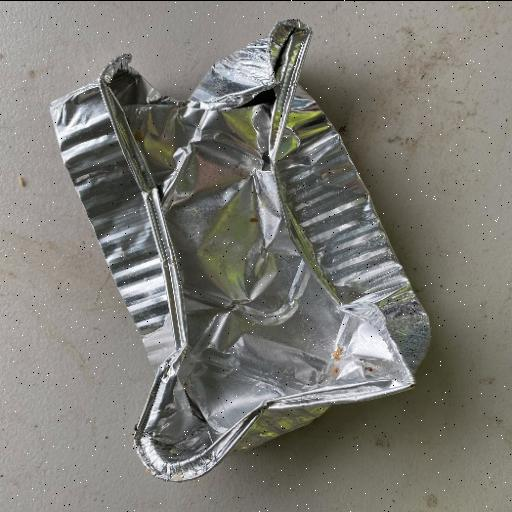Metal: (48, 18, 433, 482)
